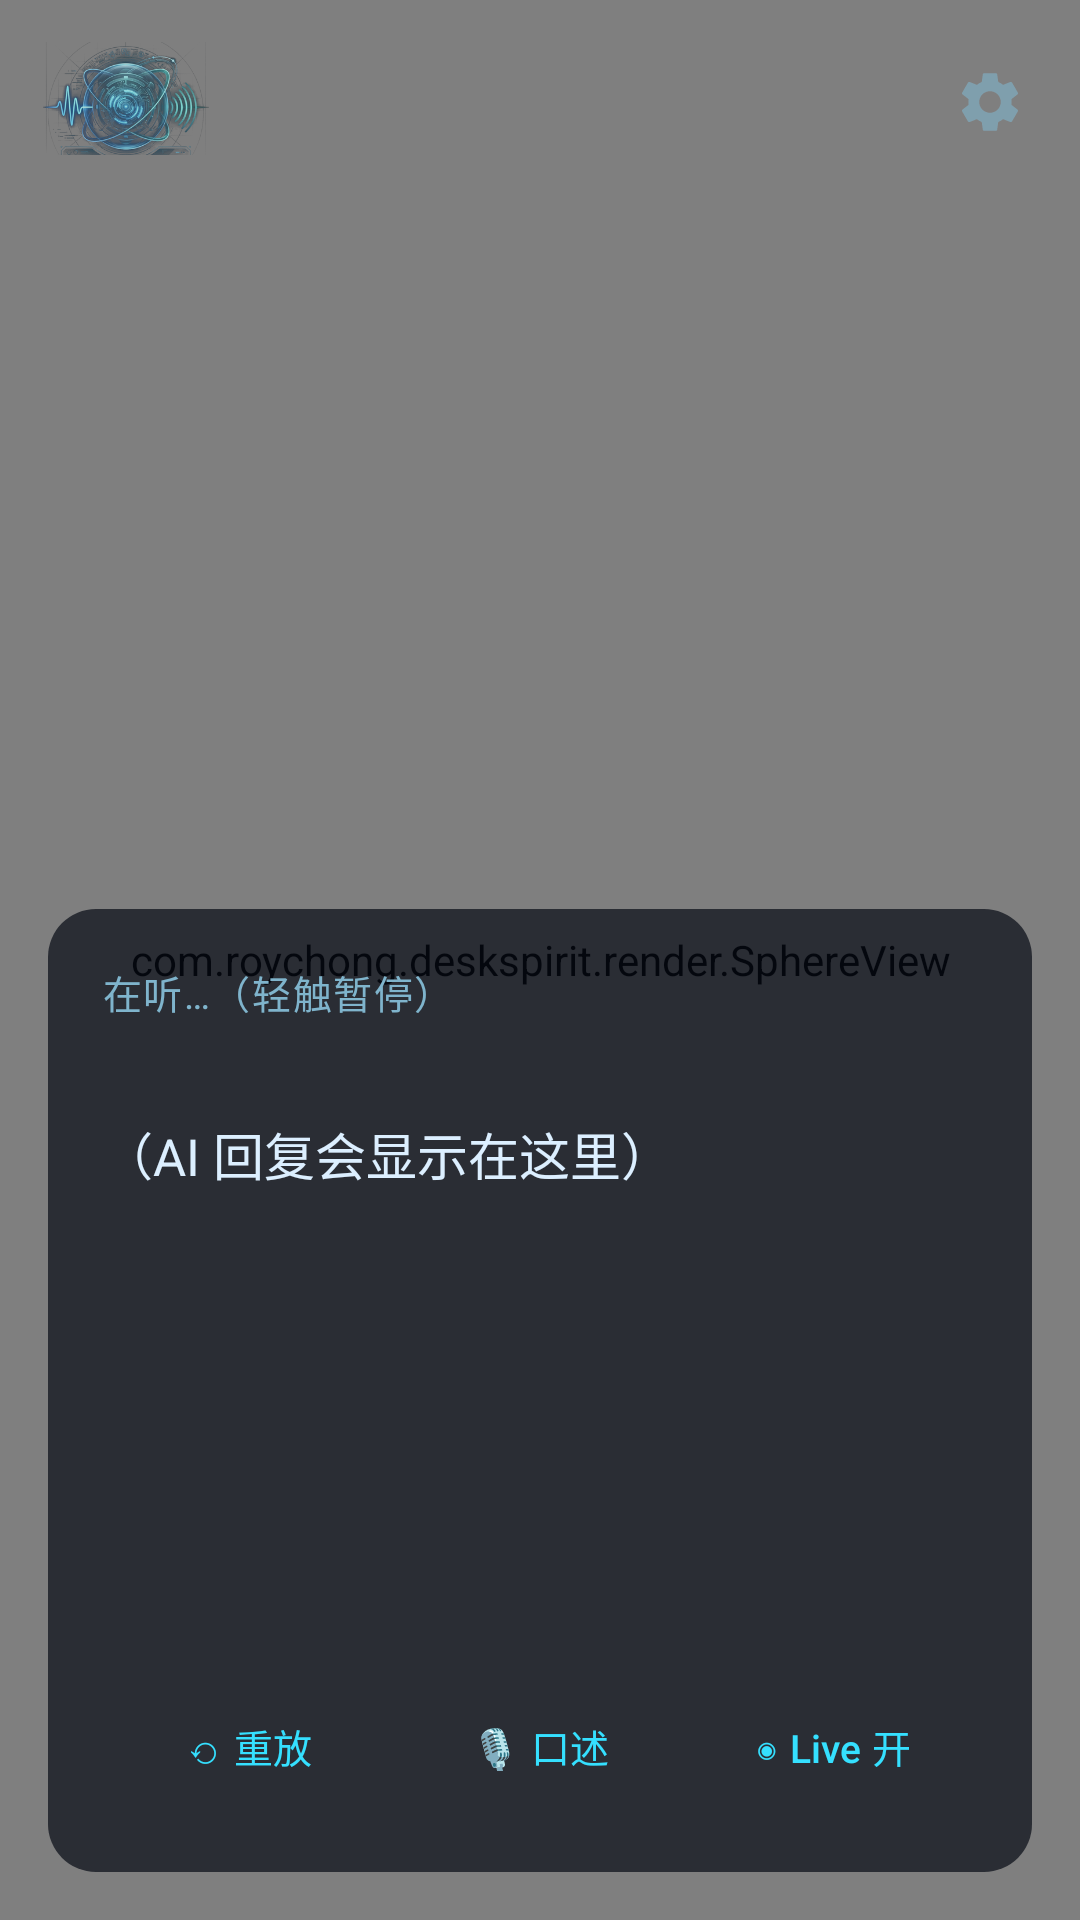

Locate icon controls on the screen. Image size 1080px×1920px, boxes as {"left": x1, "top": y1, "right": x2, "bottom": y2}.
设置: {"left": 962, "top": 73, "right": 1018, "bottom": 131}
